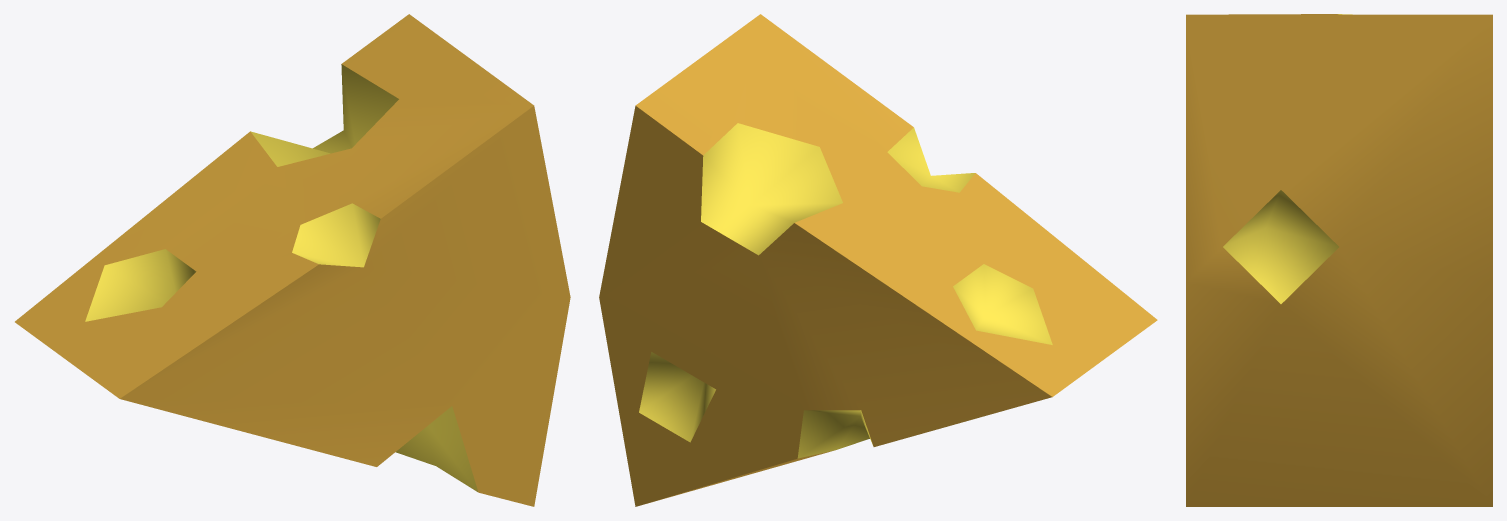
The model's file is Cheese_02.fbx.
The picture shows the model from 3 angles, left to right: view 1: azimuth 30°, elevation 25°; view 2: azimuth 150°, elevation 25°; view 3: azimuth 270°, elevation 25°; orthographic projection. The views are drawn at different scales.
Visible parts, largest first — view 1: Cheese_02; view 2: Cheese_02; view 3: Cheese_02.
Part boxes in pixels (x1,y1,x2,y2): Cheese_02: (15, 14, 570, 506); Cheese_02: (599, 14, 1157, 506); Cheese_02: (1186, 14, 1492, 506).
Bounding box in the file's own units: 186 × 161 × 91.07.
